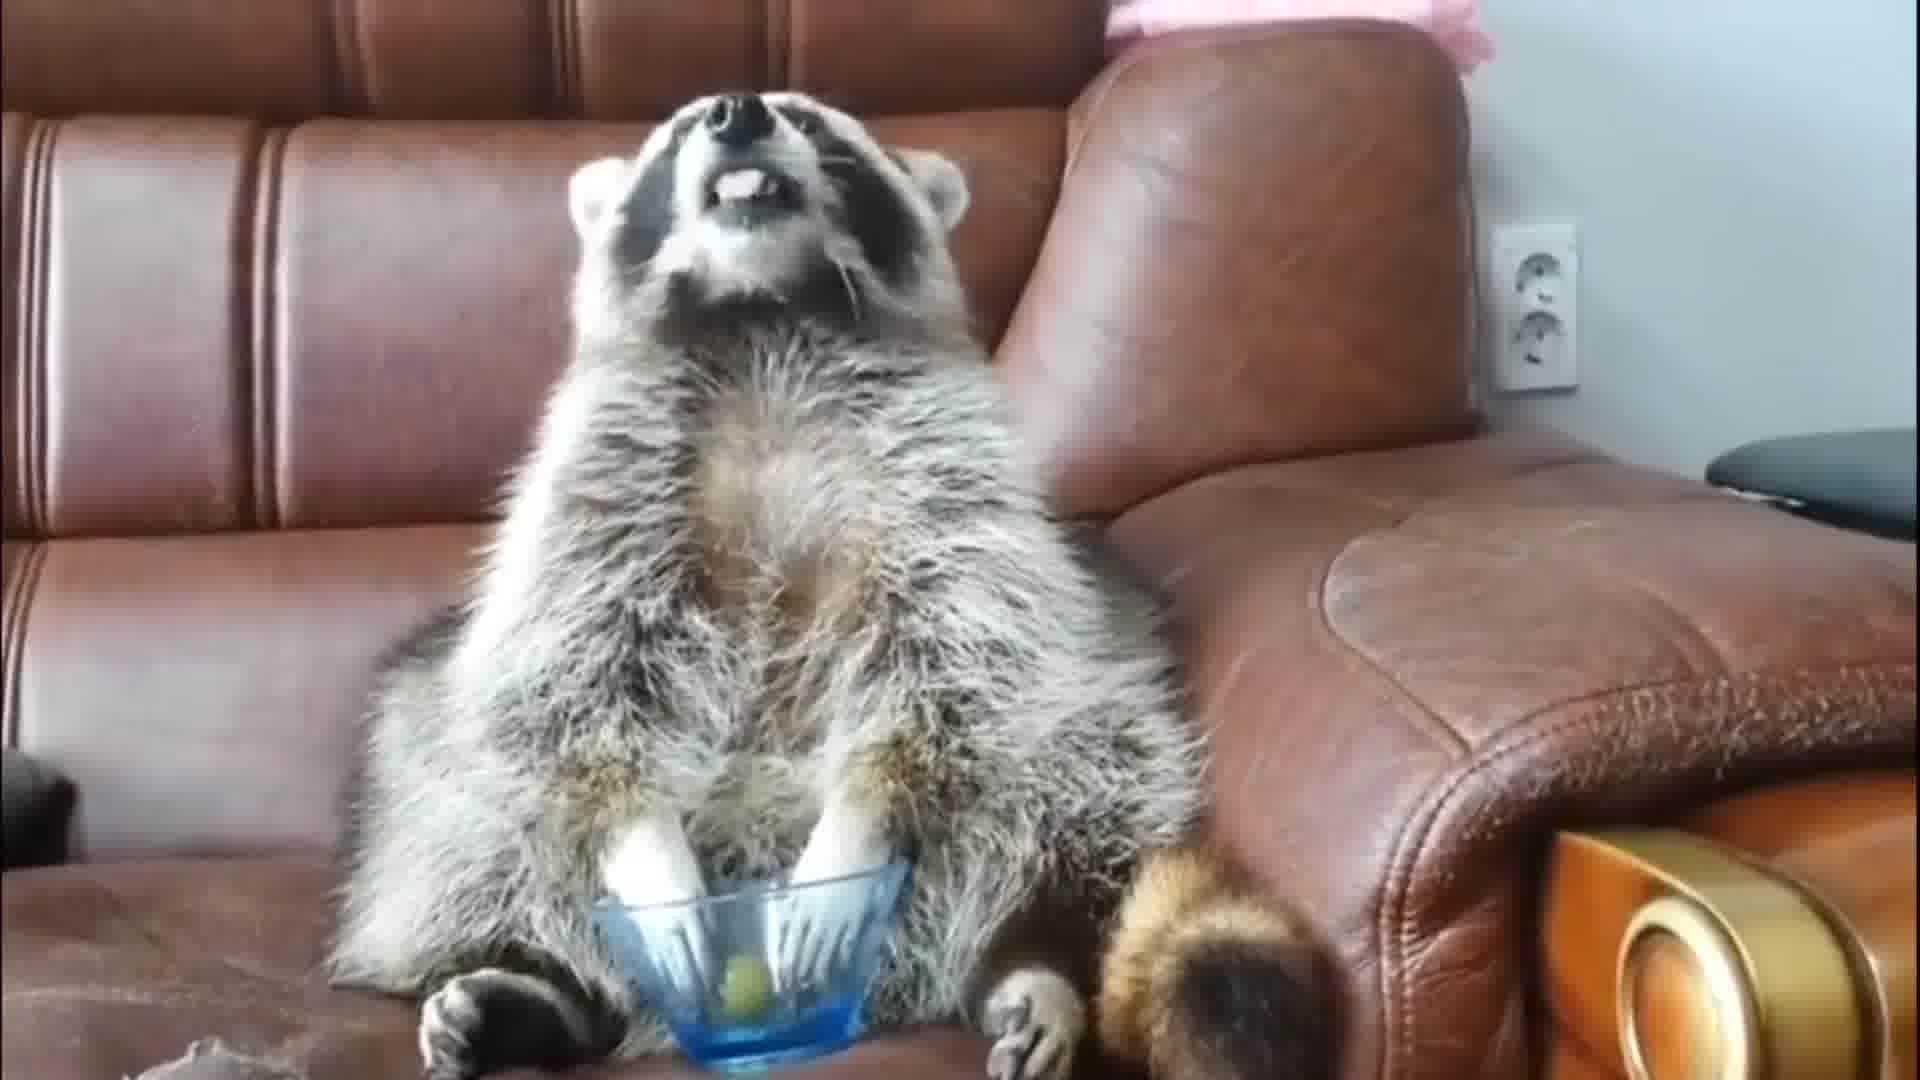raccoon: (318, 70, 1342, 1080)
